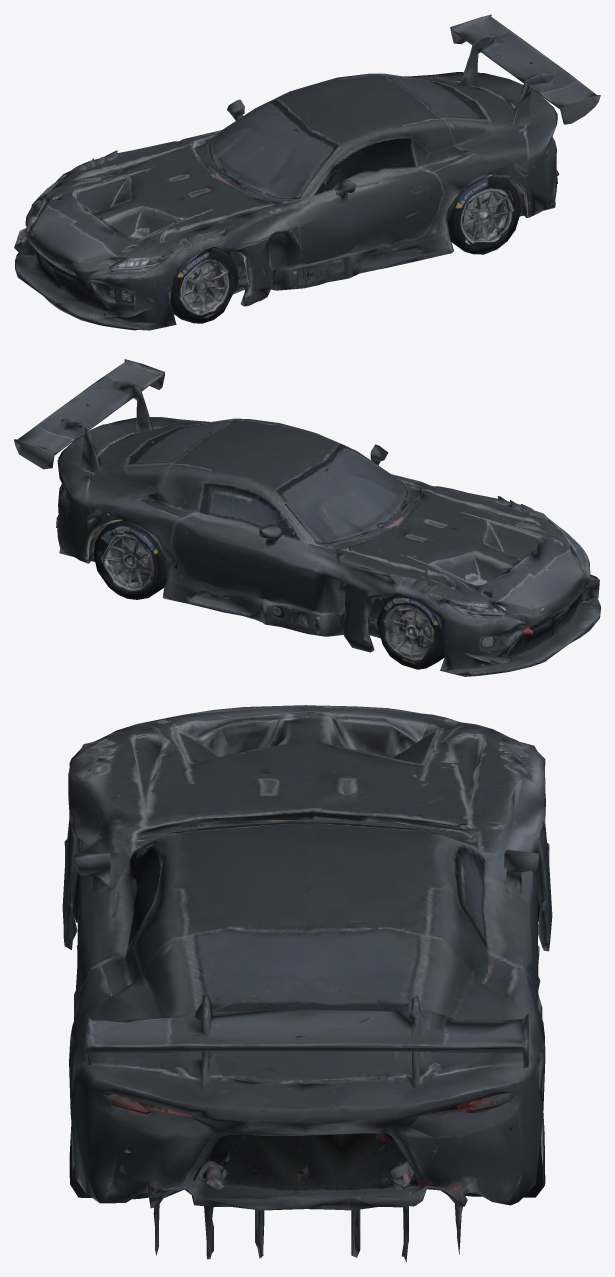
The model's file is ur_graphite.glb.
3 views of the same model, one above another, from view 1: azimuth 30°, elevation 25°; view 2: azimuth 150°, elevation 25°; view 3: azimuth 270°, elevation 25° (orthographic). The views are drawn at different scales.
Size of the model in its own units: 1.9 by 0.4915 by 0.8003.
1 material, 1 textured.
